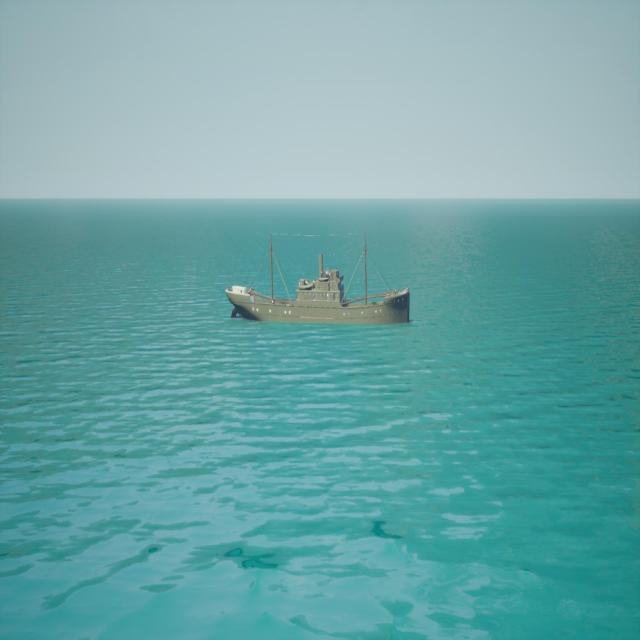fishing ship: (225, 233, 412, 325)
